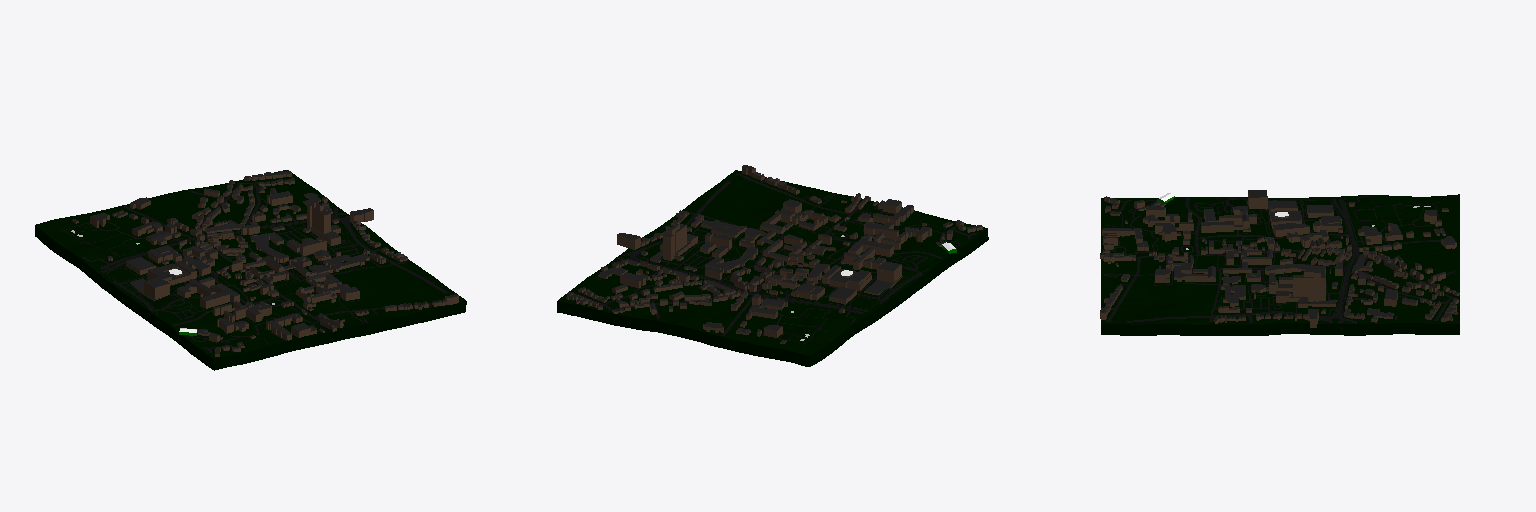
The model's file is mapboxCampus.obj.
3 views of the same model, side by side, from view 1: azimuth 30°, elevation 25°; view 2: azimuth 150°, elevation 25°; view 3: azimuth 270°, elevation 25° (orthographic).
Visible parts, largest first — view 1: Terrain, map_2.osm_buildings, map_2.osm_roads_service, map_2.osm_paths_footway; view 2: Terrain, map_2.osm_buildings, map_2.osm_roads_service, map_2.osm_paths_footway, map_2.osm_roads_residential; view 3: Terrain, map_2.osm_buildings, map_2.osm_roads_service, map_2.osm_paths_footway, map_2.osm_roads_residential, map_2.osm_roads_unclassified, map_2.osm_roads_secondary.
Part boxes in pixels (x1,y1,x2,y2): Terrain: (35,170,466,370); map_2.osm_buildings: (72,170,458,356); map_2.osm_roads_service: (82,199,434,342); map_2.osm_paths_footway: (61,190,442,345); Terrain: (557,170,988,366); map_2.osm_buildings: (566,165,982,343); map_2.osm_roads_service: (596,194,960,335); map_2.osm_paths_footway: (620,173,951,344); map_2.osm_roads_residential: (574,173,977,309); Terrain: (1101,194,1459,335); map_2.osm_buildings: (1100,190,1459,327); map_2.osm_roads_service: (1103,196,1434,320); map_2.osm_paths_footway: (1105,198,1439,322); map_2.osm_roads_residential: (1108,199,1453,322); map_2.osm_roads_unclassified: (1185,198,1456,282); map_2.osm_roads_secondary: (1332,198,1357,317).
Bounding box in the file's own units: 636 × 101 × 747.